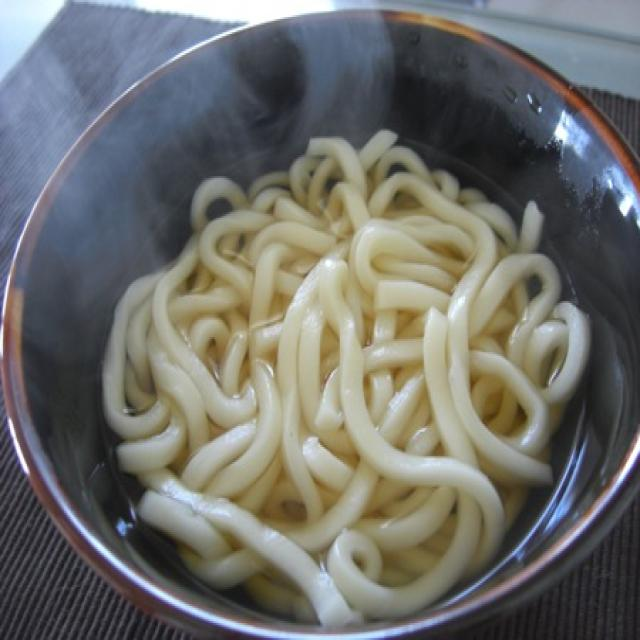面条主食: (7, 17, 640, 634)
